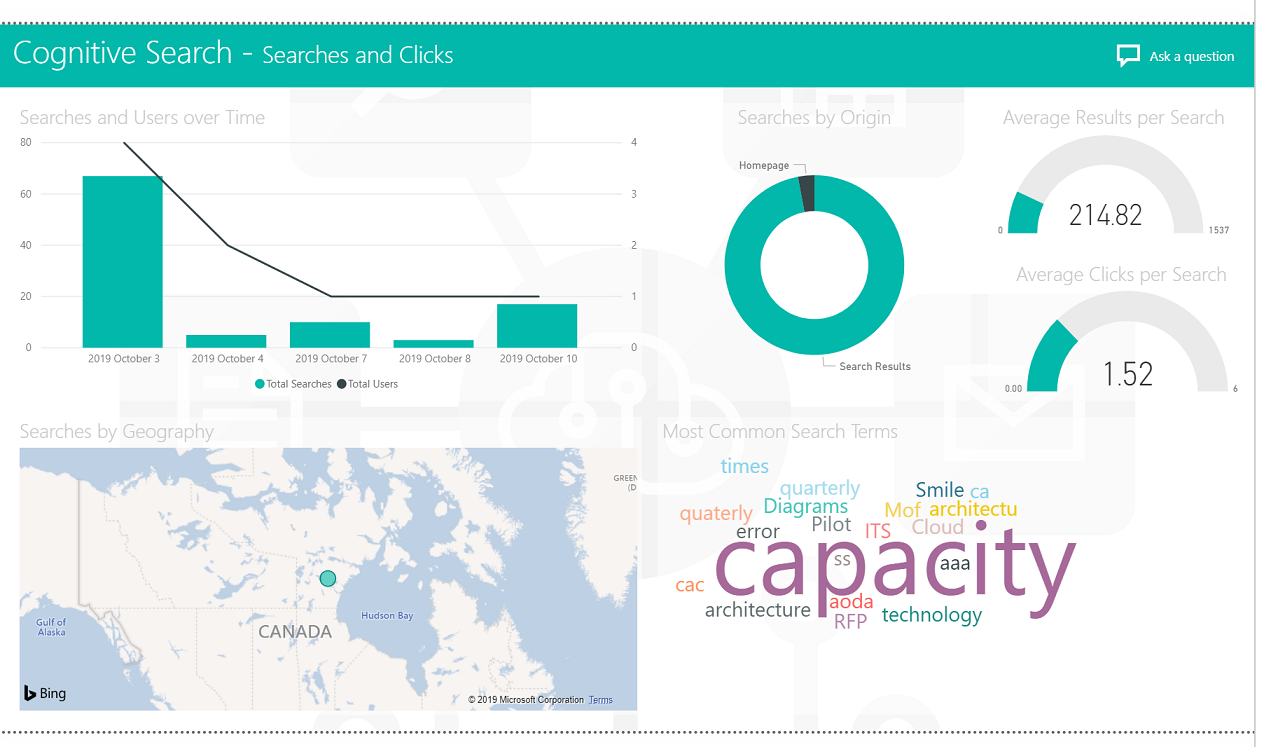

The page's visual inventory and layout, read from the dashboard file:
{"tool":"powerbi","page":{"name":"Searches and Clicks","canvas":[1280,720],"ordinal":0},"visuals":[{"type":"textbox","box":[0,0,1280,64],"z":0},{"type":"lineClusteredColumnComboChart","title":"Searches and Users over Time","fields":{"Category":["Searches.Timestamp.Variation.Date Hierarchy.Year","Searches.Timestamp.Variation.Date Hierarchy.Month","Searches.Timestamp.Variation.Date Hierarchy.Day"],"Y":["Searches.Total Searches"],"Y2":["Searches.Total Users"]},"box":[16,80,640,304],"z":1000},{"type":"map","title":"Searches by Geography","fields":{"Size":["Searches.Total Searches"],"Category":["Searches.Geography.Country or Region","Searches.Geography.State or Province","Searches.Geography.City"]},"box":[16,400,640,304],"z":2000},{"type":"gauge","title":"Average Results per Search","fields":{"Y":["Avg(Searches.Result Count)"],"MaxValue":["Max(Searches.Result Count)"],"MinValue":["Min(Searches.Result Count)1"]},"box":[1008,80,256,144],"z":3000},{"type":"gauge","title":"Average Clicks per Search","fields":{"Y":["Searches.Average Clicks per Search"],"MaxValue":["Searches.Max Clicks per Search"]},"box":[1008,240,272,144],"z":4000},{"type":"donutChart","title":"Searches by Origin","fields":{"Category":["Searches.Search Location"],"Y":["Searches.Total Searches"]},"box":[672,80,320,304],"z":5000},{"type":"WordCloud1447959067750","title":"Most Common Search Terms","fields":{"Category":["Searches.Words"]},"box":[672,400,592,304],"z":6000},{"type":"actionButton","box":[1136,16,128,32],"z":7000}]}

Visuals, with their boxes on the page's 1280x720 design canvas (x1, y1, x2, y2). These are canvas units, not pixel positions in the 1264x747 screenshot, which may show the page scaled, cropped or inside an application window:
textbox: region(0, 0, 1280, 64)
"Searches and Users over Time" lineClusteredColumnComboChart: region(16, 80, 656, 384)
"Searches by Geography" map: region(16, 400, 656, 704)
"Average Results per Search" gauge: region(1008, 80, 1264, 224)
"Average Clicks per Search" gauge: region(1008, 240, 1280, 384)
"Searches by Origin" donutChart: region(672, 80, 992, 384)
"Most Common Search Terms" WordCloud1447959067750: region(672, 400, 1264, 704)
actionButton: region(1136, 16, 1264, 48)
